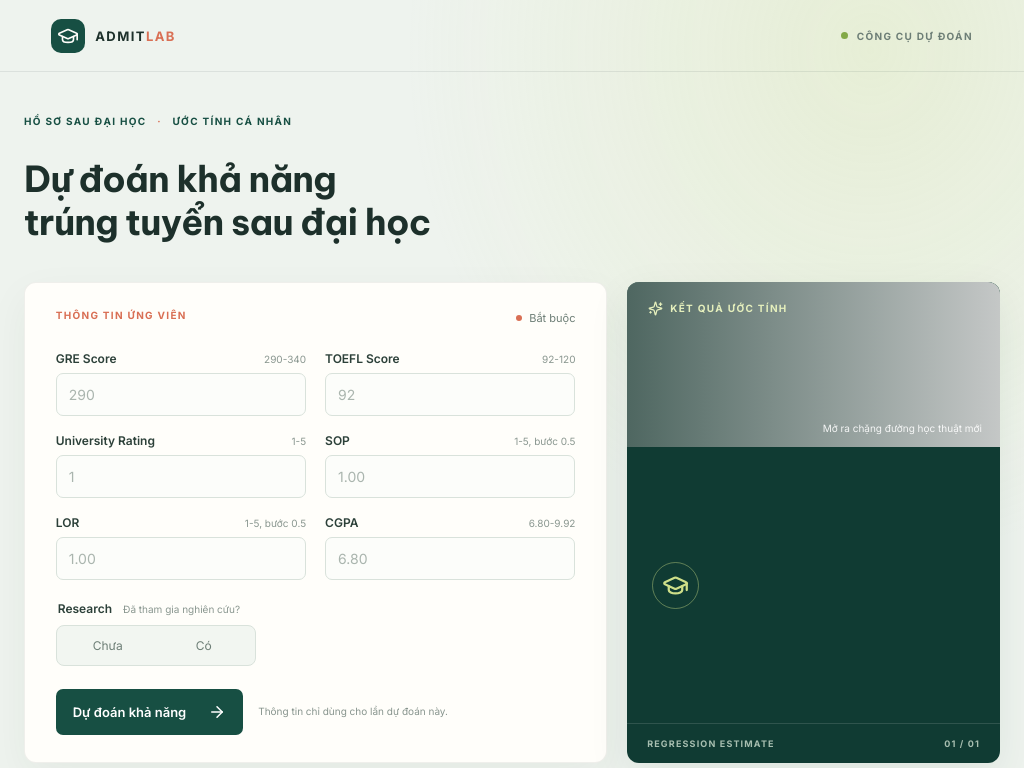
admission prediction form › submits all seven features and renders the prediction result
In the number field labelled "GRE Score": (181, 394) [56, 373, 306, 416], type "337"
In the number field labelled "TOEFL Score": (450, 394) [325, 373, 576, 416], type "118"
In the number field labelled "University Rating": (181, 476) [56, 455, 306, 498], type "4"
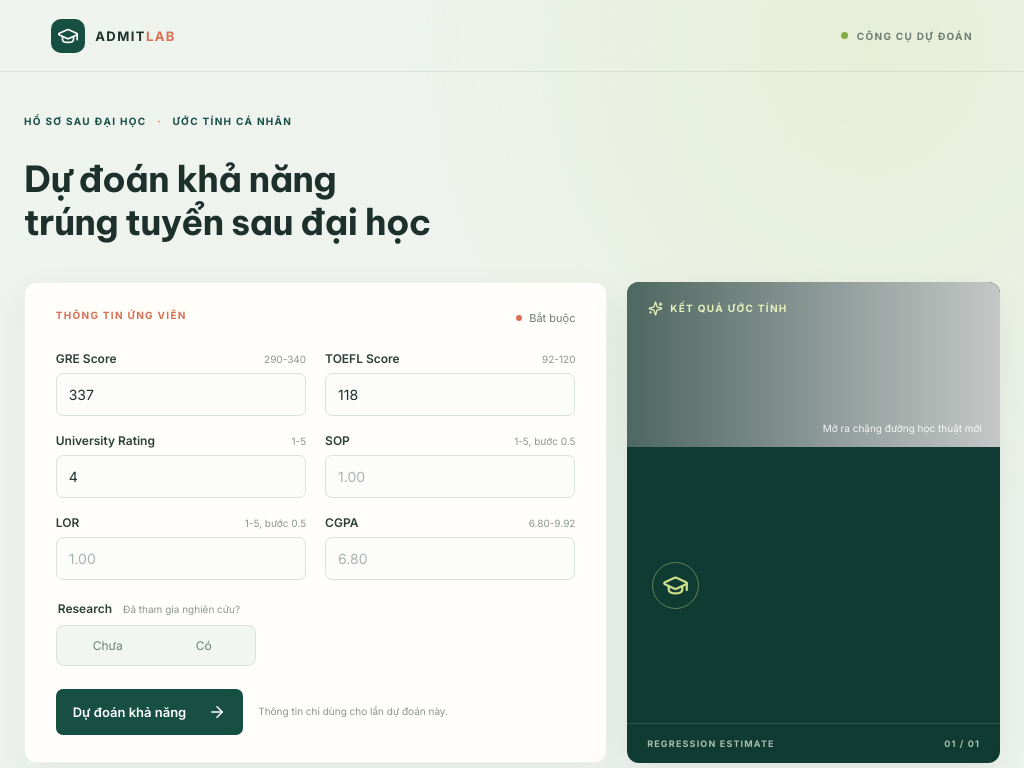
In the number field labelled "SOP": (450, 476) [325, 455, 576, 498], type "4.5"
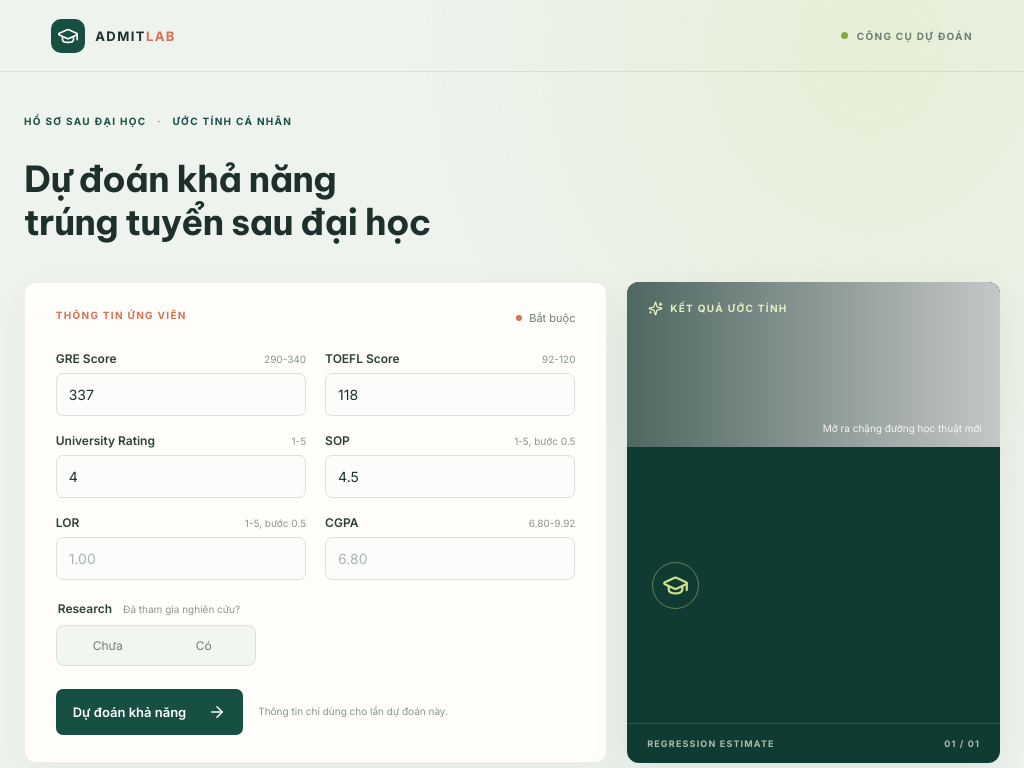
In the number field labelled "LOR": (181, 558) [56, 537, 306, 580], type "4.5"
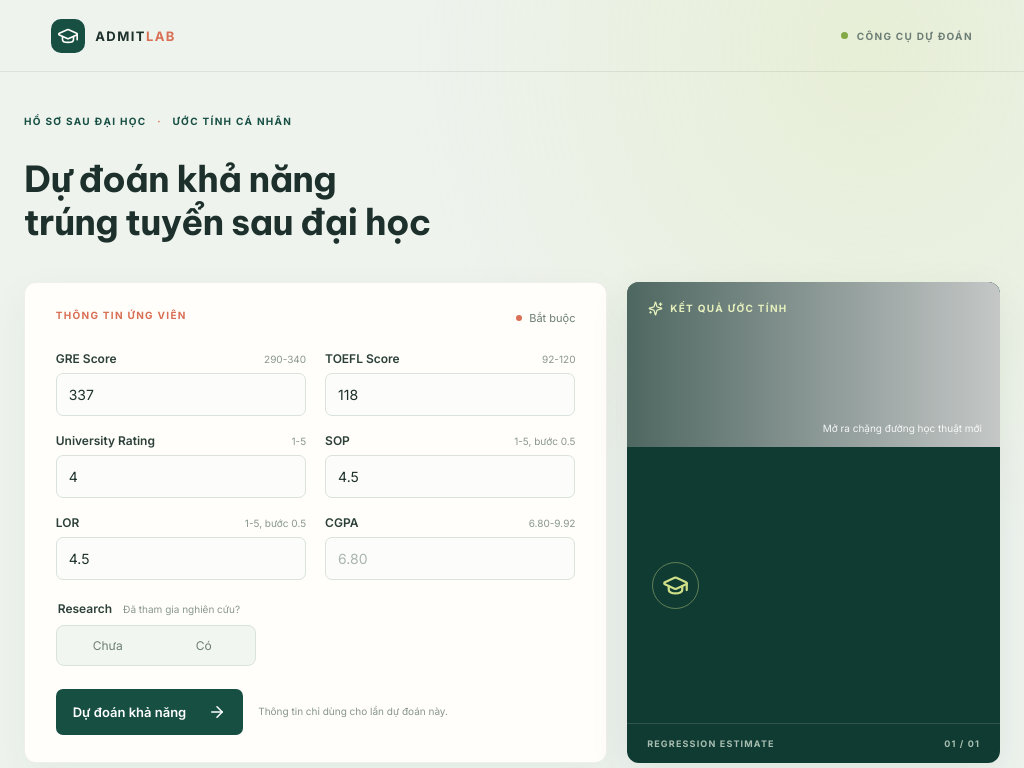
In the number field labelled "CGPA": (450, 558) [325, 537, 576, 580], type "9.65"
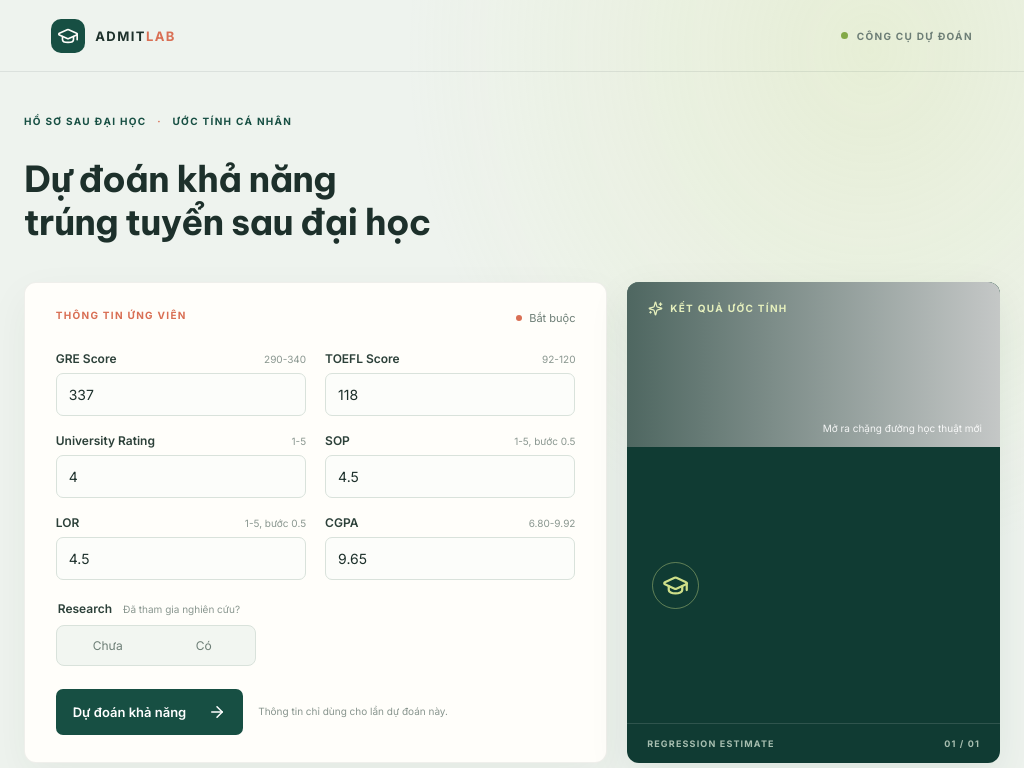
Click the radio button labelled "Có": click(204, 645) [196, 638, 212, 653]
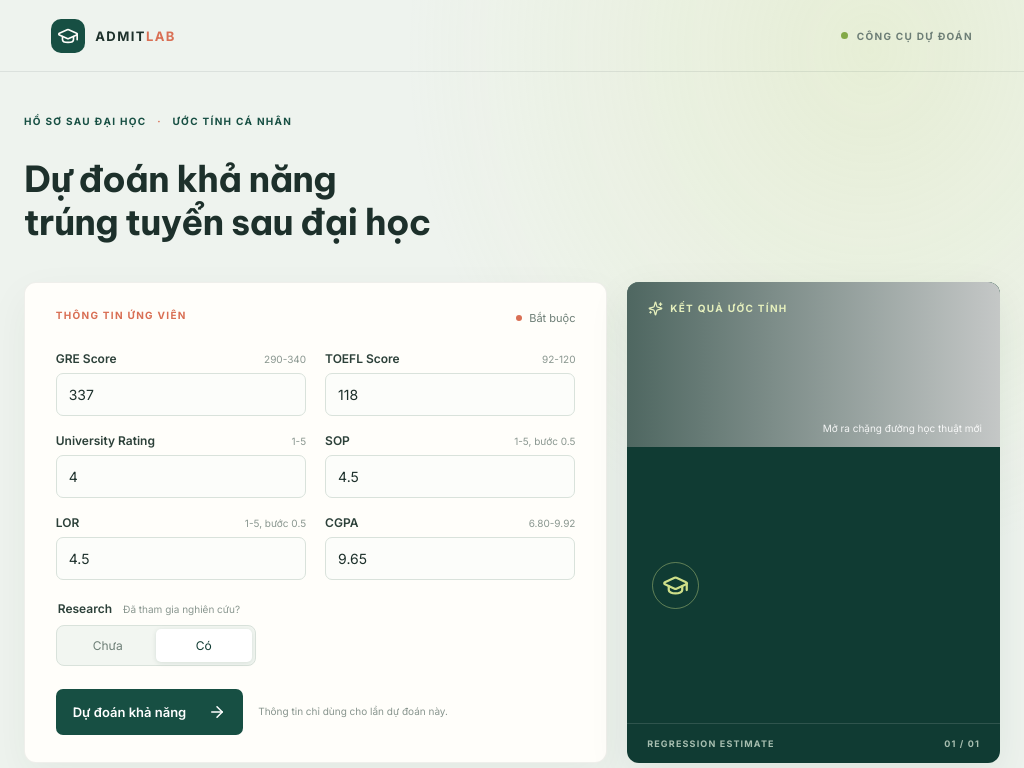
Click the button "Dự đoán khả năng": click(149, 712) [56, 689, 243, 735]
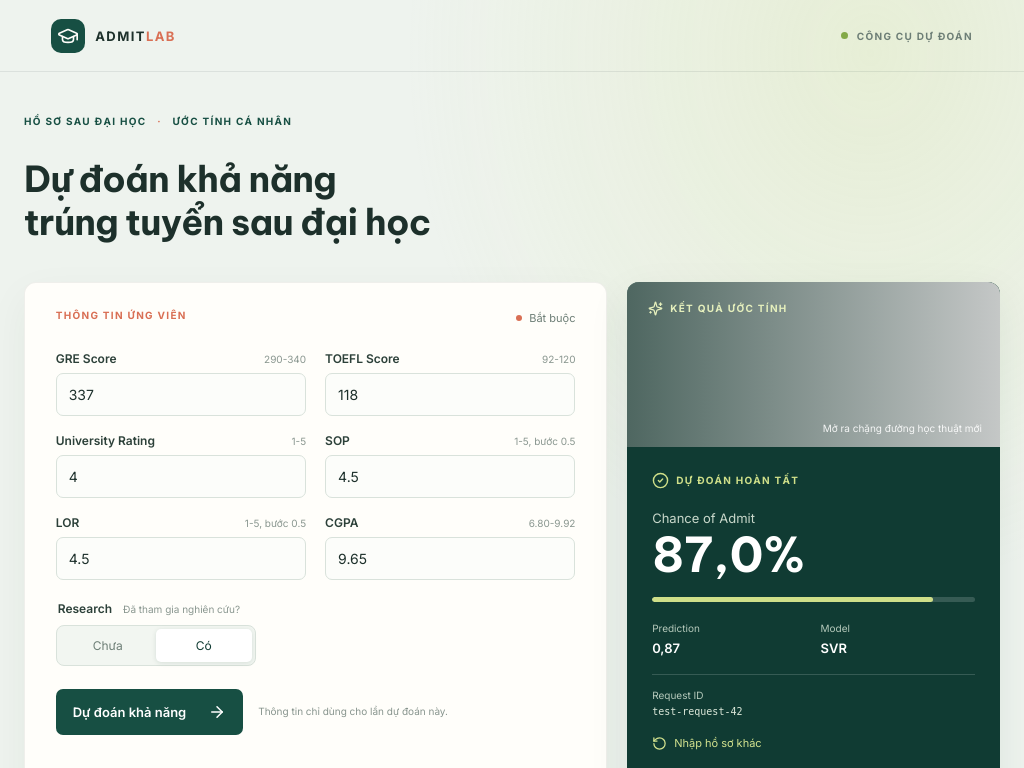
Result: the text "SVR" is shown at [821, 640, 847, 656]
Result: the text "test-request-42" is shown at [652, 706, 742, 716]
Result: the text "Prediction" is shown at [652, 622, 700, 634]
